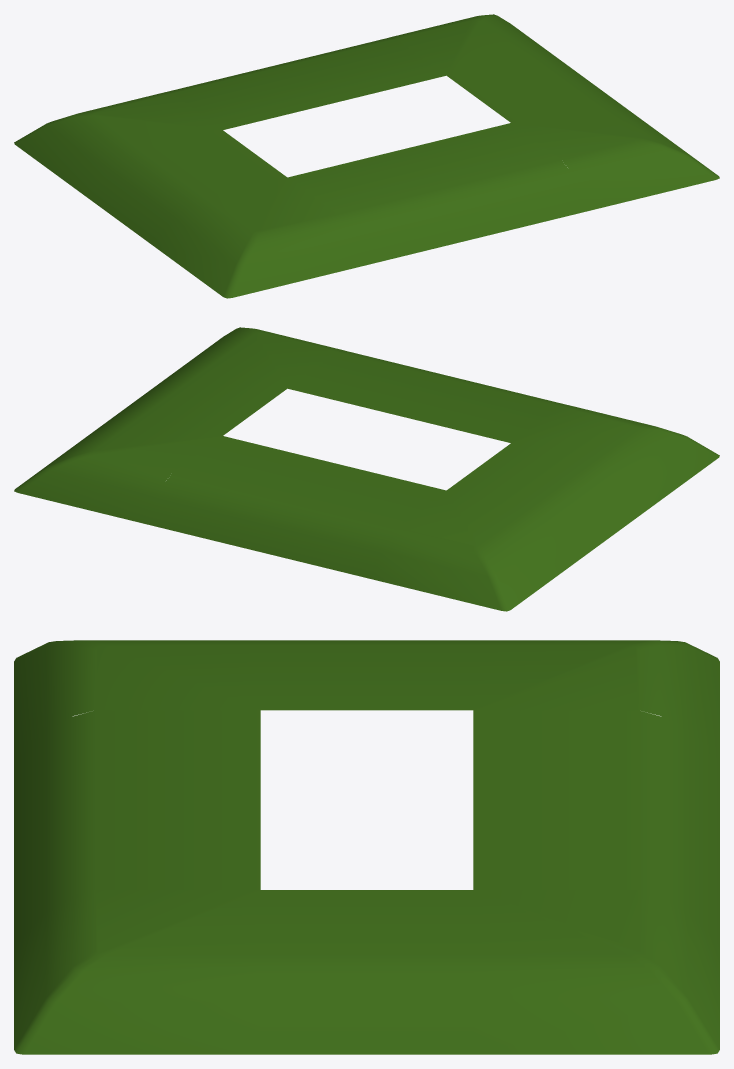
Rendered from Ground1_1.fbx.
3 renders of one model, top to bottom at view 1: azimuth 30°, elevation 25°; view 2: azimuth 150°, elevation 25°; view 3: azimuth 270°, elevation 25°, orthographic. The views are drawn at different scales.
Visible parts, largest first — view 1: Ground1_3, Ground1_1 (2), Ground1_1, Ground1_4 (1), Ground1_6, Ground1_4, Ground1_6 (1), Ground1_1 (1), Ground1_1 (3), Ground1_5; view 2: Ground1_4, Ground1_1 (3), Ground1_1 (1), Ground1_5, Ground1_6, Ground1_3, Ground1_6 (1), Ground1_1, Ground1_1 (2), Ground1_4 (1); view 3: Ground1_4 (1), Ground1_5, Ground1_6 (1), Ground1_1, Ground1_1 (1), Ground1_1 (2), Ground1_1 (3), Ground1_3, Ground1_4, Ground1_6.
Part boxes in pixels (x1,y1,x2,y2): Ground1_3: [151, 177, 362, 298]; Ground1_1 (2): [399, 123, 585, 238]; Ground1_1: [287, 150, 473, 265]; Ground1_4 (1): [511, 103, 719, 211]; Ground1_6: [87, 130, 286, 244]; Ground1_4: [14, 92, 222, 196]; Ground1_6 (1): [447, 56, 642, 122]; Ground1_1 (1): [167, 65, 334, 129]; Ground1_1 (3): [278, 37, 445, 102]; Ground1_5: [389, 14, 578, 75]; Ground1_4: [371, 490, 582, 611]; Ground1_1 (3): [148, 436, 334, 551]; Ground1_1 (1): [260, 463, 446, 578]; Ground1_5: [14, 416, 222, 524]; Ground1_6: [447, 443, 646, 557]; Ground1_3: [511, 405, 719, 509]; Ground1_6 (1): [91, 369, 286, 435]; Ground1_1: [399, 378, 566, 442]; Ground1_1 (2): [288, 350, 455, 415]; Ground1_4 (1): [155, 327, 344, 388]; Ground1_4 (1): [14, 890, 260, 1054]; Ground1_5: [473, 890, 719, 1054]; Ground1_6 (1): [260, 890, 473, 1054]; Ground1_1: [14, 710, 260, 855]; Ground1_1 (1): [473, 710, 719, 855]; Ground1_1 (2): [14, 800, 260, 944]; Ground1_1 (3): [473, 800, 719, 944]; Ground1_3: [14, 640, 260, 765]; Ground1_4: [473, 640, 719, 765]; Ground1_6: [260, 640, 473, 710].
Bounding box in the file's own units: 1990 × 130 × 1492.
